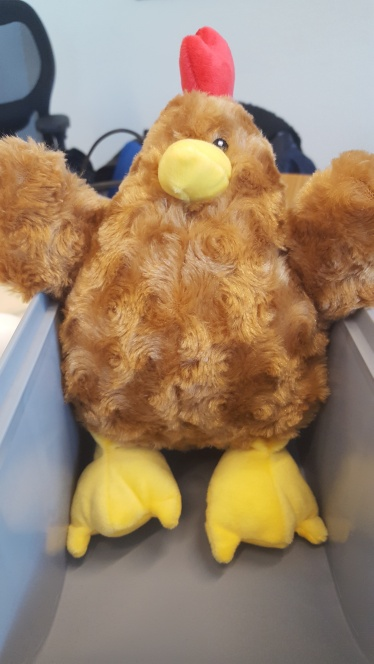chicken_front: (1, 25, 374, 565)
